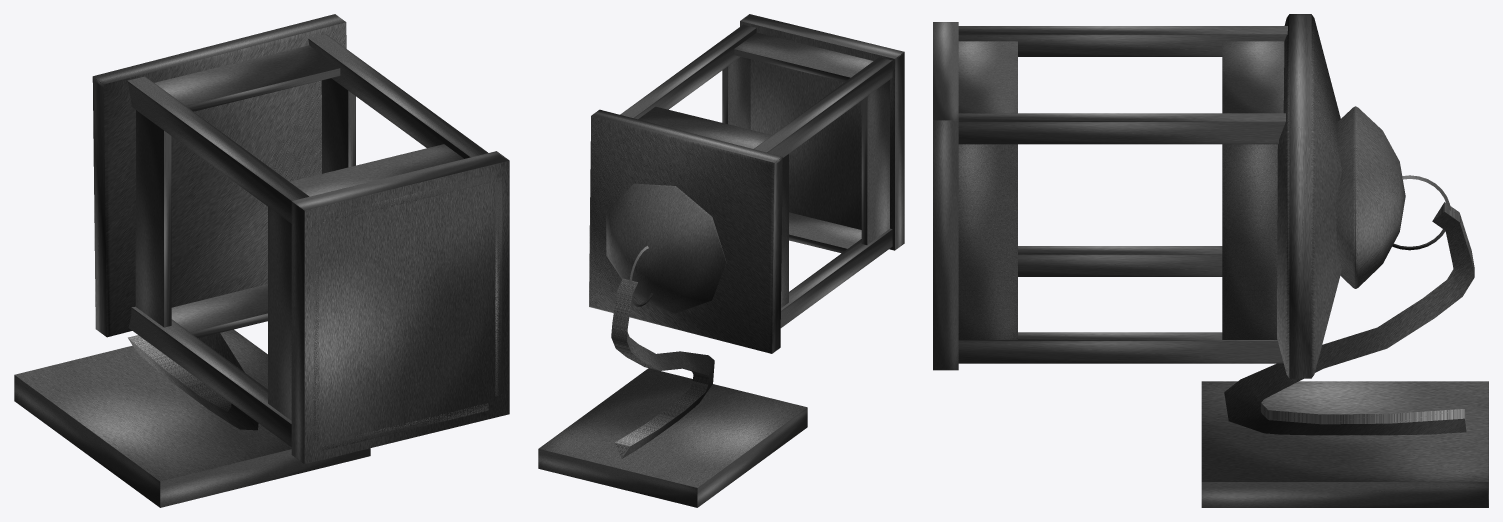
The model's file is lantern_wall.FBX.
3 views of the same model, side by side, from view 1: azimuth 30°, elevation 25°; view 2: azimuth 150°, elevation 25°; view 3: azimuth 270°, elevation 25° (orthographic). The views are drawn at different scales.
Parts seen in each view (by area): view 1: Box002, OilTank002, Box001, Box012, Box006, Box013, Box008, Box005, Box003, Box010, Box011, Line001 (+3 smaller); view 2: OilTank002, Box001, Box002, OilTank001, Line001, Box008, Box006, Box010, Box003, Box005, Box013, Box009 (+2 smaller); view 3: Box001, OilTank002, Line001, Box007, Box014, Box003, Box004, OilTank001, Box002, Box006, Box005, Box013 (+1 smaller).
Boxes of the visible parts, bbox=[...] form: Box002: bbox=[291, 151, 509, 464]; OilTank002: bbox=[92, 14, 346, 337]; Box001: bbox=[14, 329, 370, 507]; Box012: bbox=[135, 110, 171, 327]; Box006: bbox=[127, 76, 309, 223]; Box013: bbox=[154, 45, 340, 111]; Box008: bbox=[268, 207, 318, 441]; Box005: bbox=[128, 306, 291, 446]; Box003: bbox=[308, 34, 487, 158]; Box010: bbox=[289, 144, 488, 221]; Box011: bbox=[171, 284, 267, 337]; Line001: bbox=[128, 333, 258, 430]; OilTank002: bbox=[589, 109, 782, 353]; Box001: bbox=[538, 368, 807, 507]; Box002: bbox=[740, 14, 904, 250]; OilTank001: bbox=[606, 183, 726, 313]; Line001: bbox=[611, 278, 714, 458]; Box008: bbox=[861, 80, 889, 244]; Box006: bbox=[754, 57, 892, 157]; Box010: bbox=[734, 32, 873, 81]; Box003: bbox=[620, 24, 756, 119]; Box005: bbox=[780, 228, 892, 327]; Box013: bbox=[638, 106, 772, 148]; Box009: bbox=[789, 212, 861, 253]; Box001: bbox=[1201, 381, 1488, 507]; OilTank002: bbox=[1277, 14, 1342, 378]; Line001: bbox=[1224, 202, 1474, 435]; Box007: bbox=[958, 144, 1017, 339]; Box014: bbox=[1222, 144, 1277, 339]; Box003: bbox=[958, 113, 1285, 144]; Box004: bbox=[958, 332, 1283, 363]; OilTank001: bbox=[1335, 106, 1405, 288]; Box002: bbox=[933, 22, 958, 370]; Box006: bbox=[958, 26, 1287, 56]; Box005: bbox=[1018, 246, 1222, 276]; Box013: bbox=[1222, 41, 1284, 113].
Bounding box in the file's own units: 1.67 × 2.58 × 3.33.
Materials: 1 (1 with a texture image).
